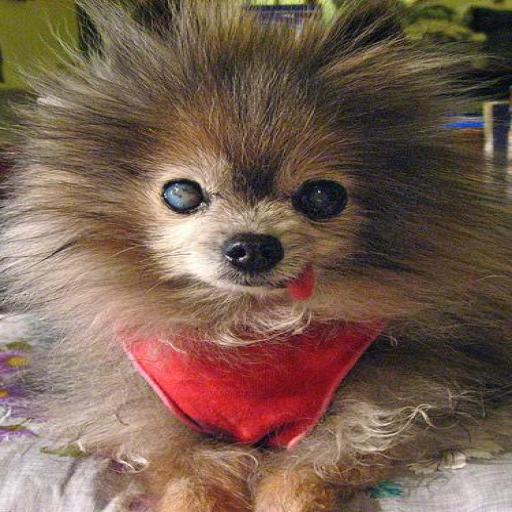dog_face: (70, 12, 446, 298)
